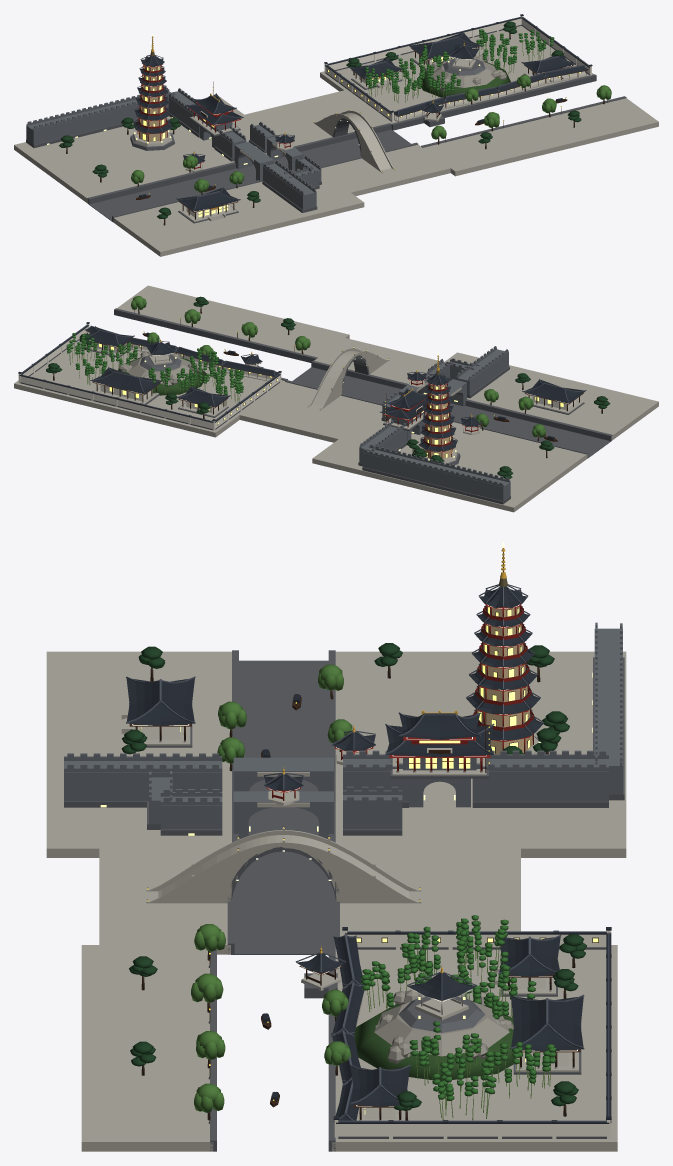
Rendered from panmen_canglang.glb.
3 views of the same model, one above another, from view 1: azimuth 30°, elevation 25°; view 2: azimuth 150°, elevation 25°; view 3: azimuth 270°, elevation 25° (orthographic). The views are drawn at different scales.
Parts seen in each view (by area): view 1: PanmenCanglang; view 2: PanmenCanglang; view 3: PanmenCanglang.
Boxes of the visible parts, x1,y1,x2,y2 form: PanmenCanglang: (14, 14, 658, 256); PanmenCanglang: (14, 285, 658, 512); PanmenCanglang: (46, 541, 626, 1151).
Size of the model in its own units: 264 by 56.31 by 132.
